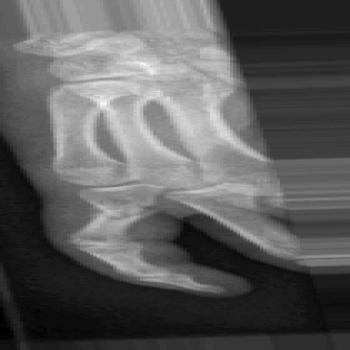Fracture: (92, 203, 164, 223)
